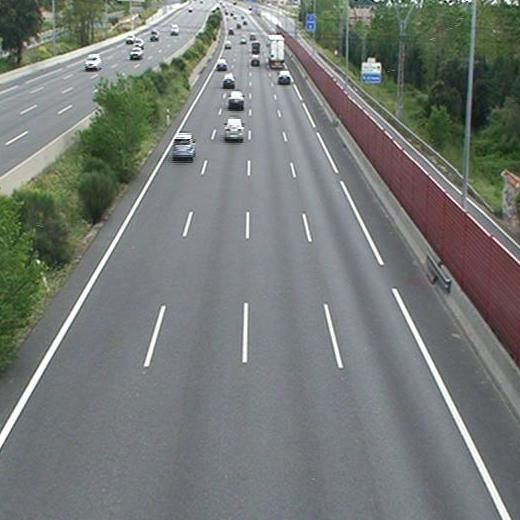car: (173, 134, 195, 157), (224, 119, 244, 138), (229, 91, 245, 106), (277, 71, 291, 82), (223, 74, 235, 86), (250, 55, 261, 65), (216, 58, 226, 69), (224, 40, 232, 49)
truck: (269, 34, 284, 68)
van: (251, 41, 261, 53)
